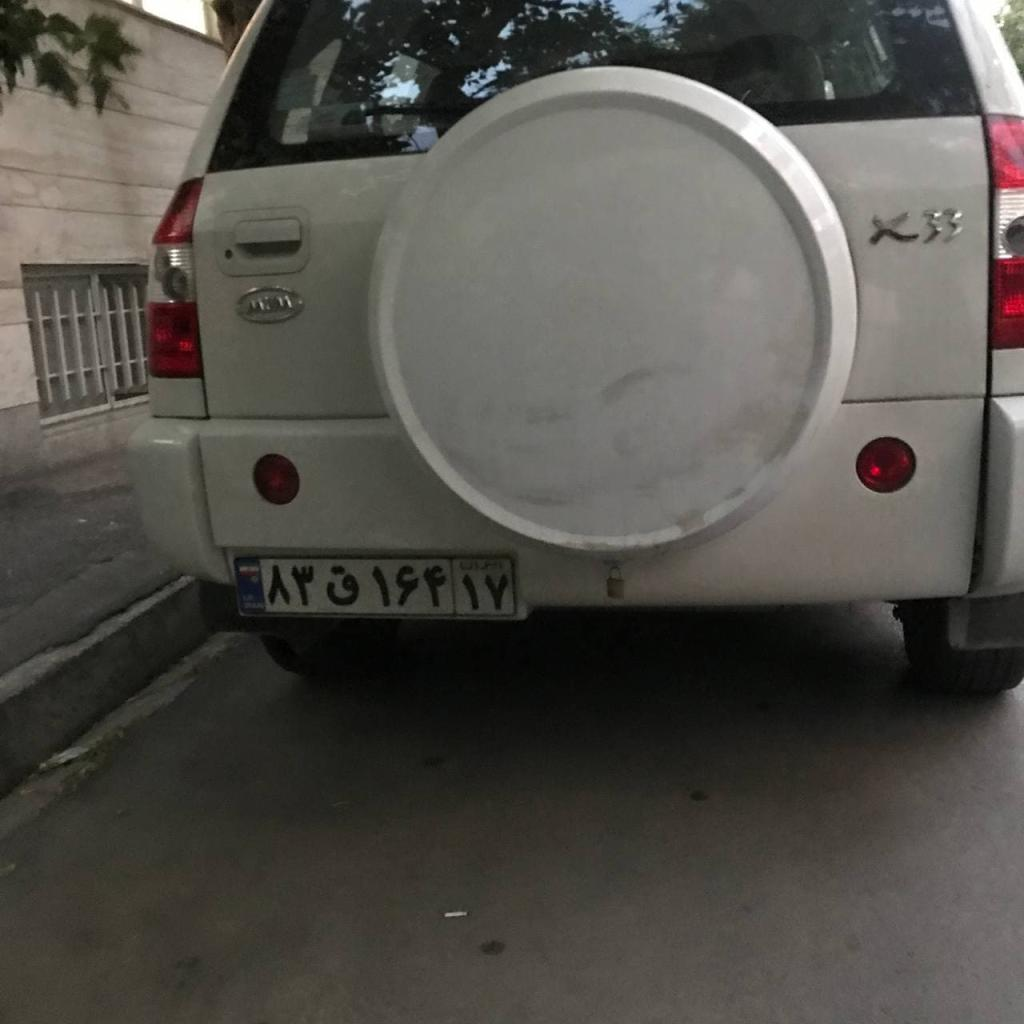Plates: (232, 557, 515, 614)
